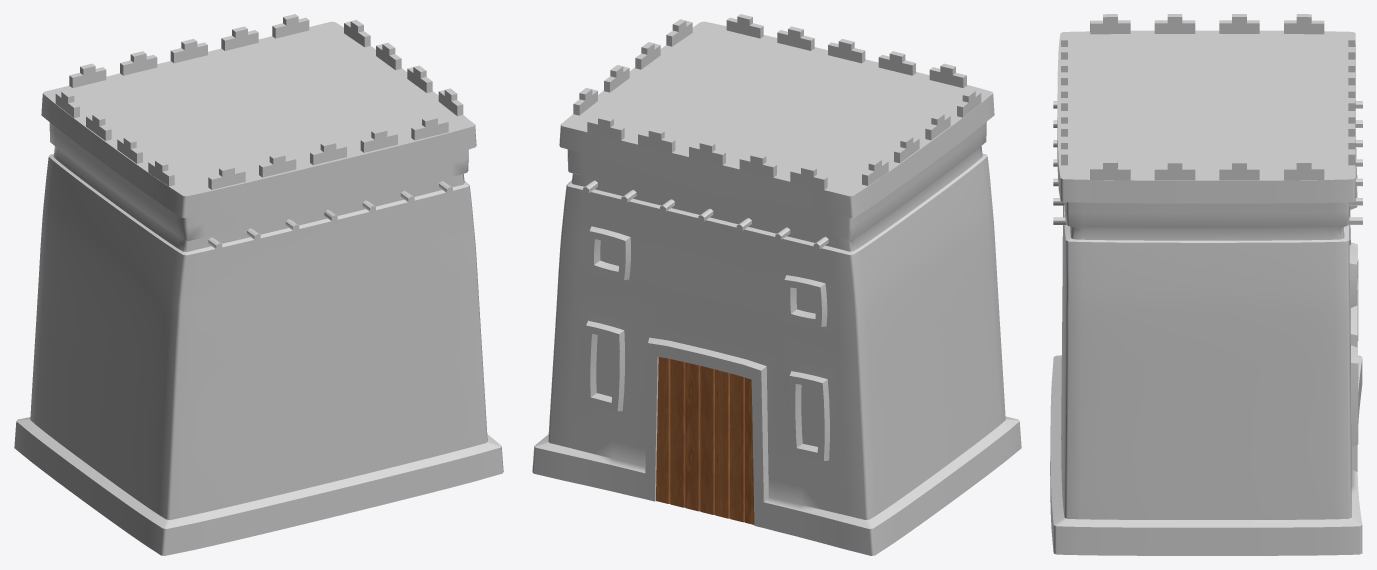
File: Najdi_Noble_A01.fbx
3 views of the same model, side by side, from view 1: azimuth 30°, elevation 25°; view 2: azimuth 150°, elevation 25°; view 3: azimuth 270°, elevation 25° (orthographic). The views are drawn at different scales.
Parts seen in each view (by area): view 1: Najdi_Noble_A01; view 2: Najdi_Noble_A01; view 3: Najdi_Noble_A01.
Part boxes in pixels (<box>): Najdi_Noble_A01: <box>14,14,503,555</box>; Najdi_Noble_A01: <box>532,14,1021,555</box>; Najdi_Noble_A01: <box>1050,14,1362,555</box>.
Size of the model in its own units: 2223 by 1677 by 2251.
